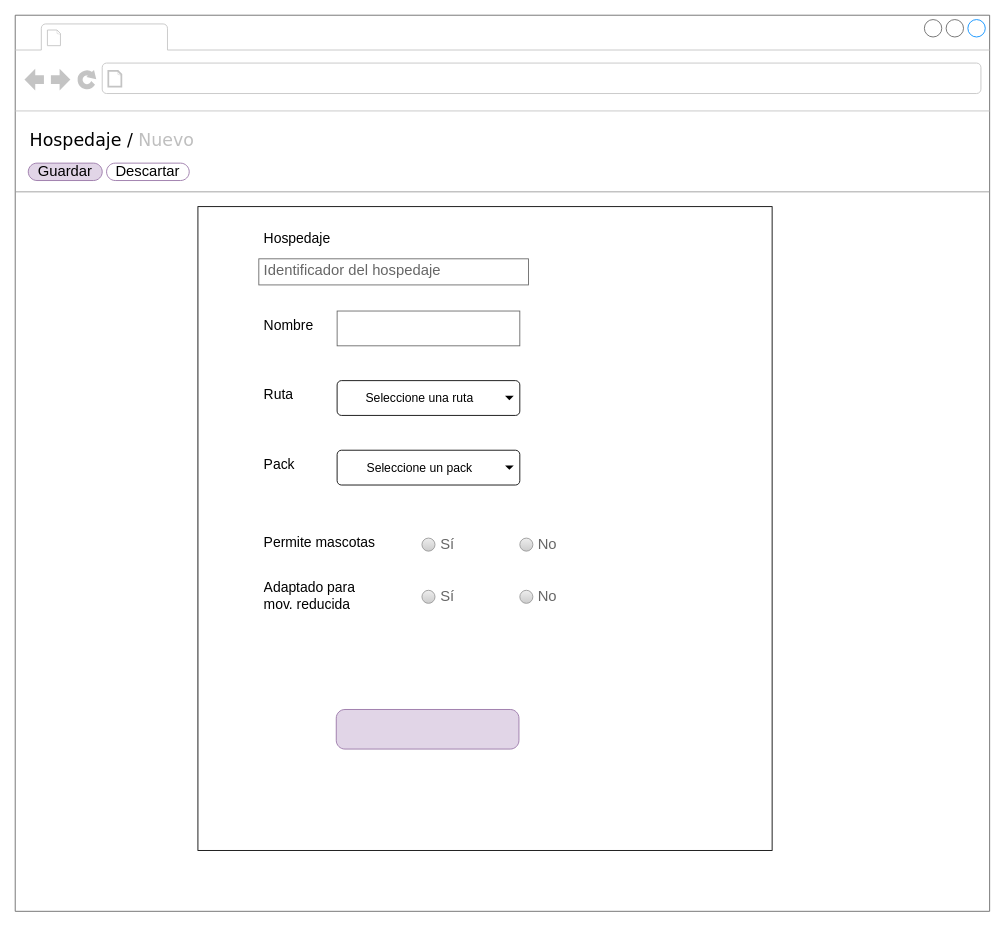
The diagram is 1005 pixels wide and 927 high, and some of its shapes have lost their labels. Here are the shapes that lost their labels. From the top down, the centre of each, then its label:
the point at 115,36: Odoo
the point at 236,78: localhost:8069/hospedaje/nuevo
the point at 428,328: Nombre del hospedaje
the point at 427,729: Crear hospedaje
